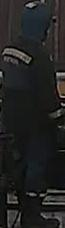vest: (0, 34, 59, 154)
